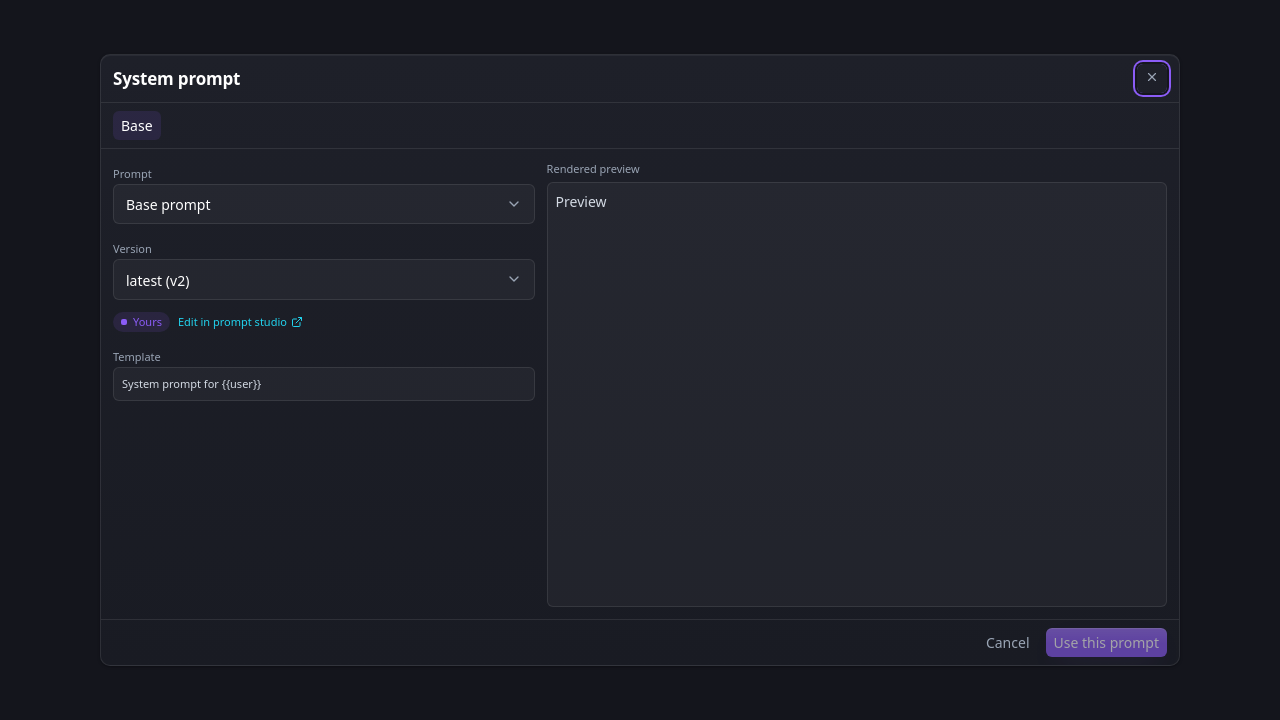
Test: PromptEditorOverlay › lists only prompts matching the section's context
Click the dropdown labelled "prompt": point(168, 205) [113,184,535,224]
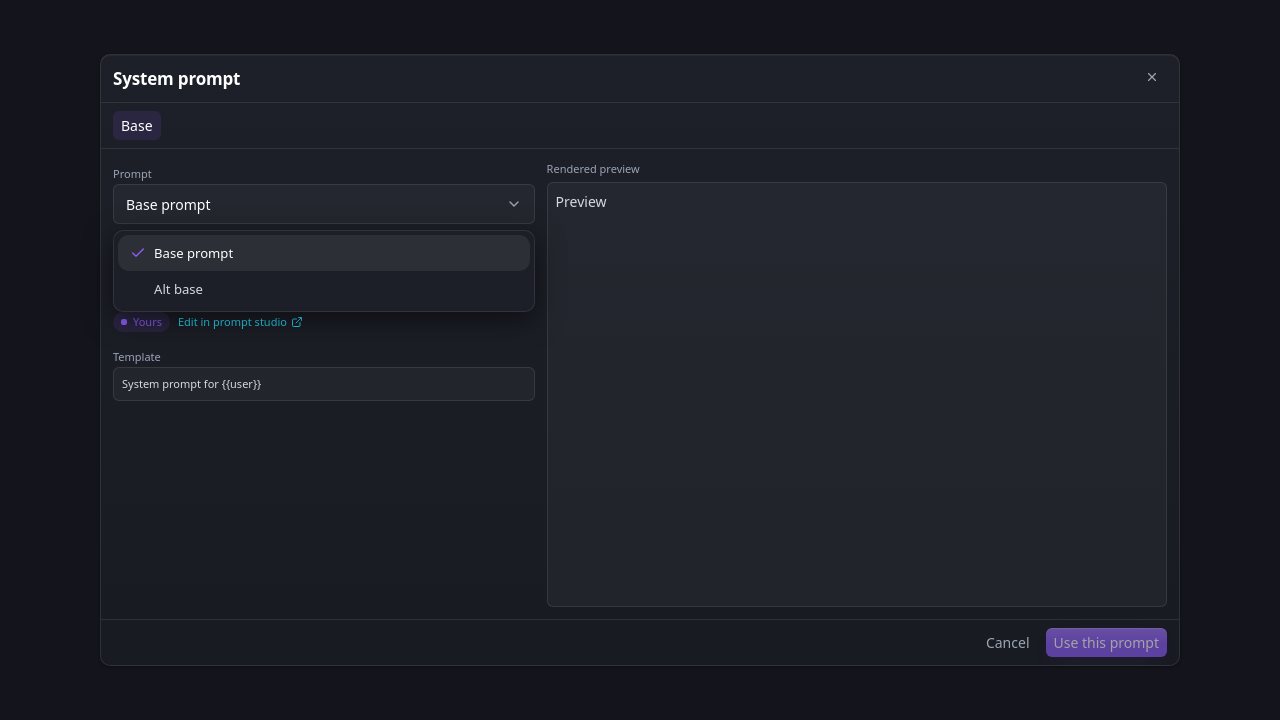
Expected: the option "Alt base" is shown, [154,280,203,298]
